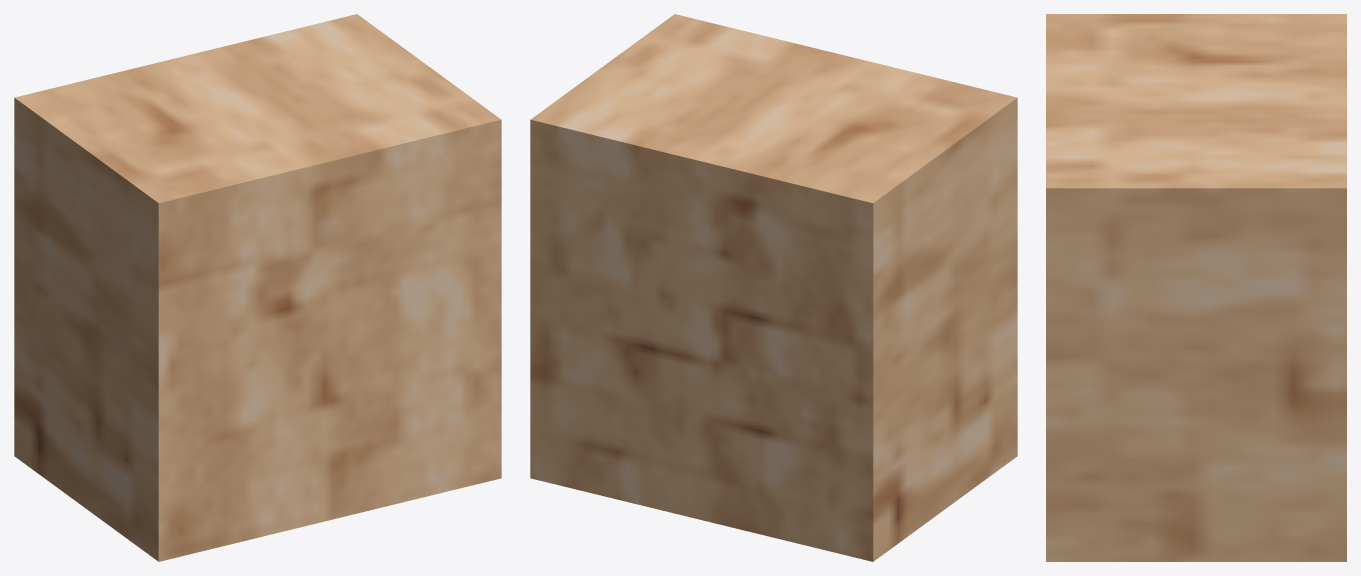
File: Castle_Crenel.fbx
3 renders of one model, left to right at view 1: azimuth 30°, elevation 25°; view 2: azimuth 150°, elevation 25°; view 3: azimuth 270°, elevation 25°, orthographic. The views are drawn at different scales.
Parts seen in each view (by area): view 1: Crenel_00; view 2: Crenel_00; view 3: Crenel_00.
Boxes of the visible parts, <box> form: Crenel_00: <box>14,14,501,561</box>; Crenel_00: <box>530,14,1017,561</box>; Crenel_00: <box>1046,14,1346,561</box>.
Bounding box in the file's own units: 1 × 1 × 0.7297.
